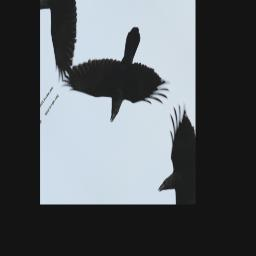Crow: (60, 0, 179, 171)
